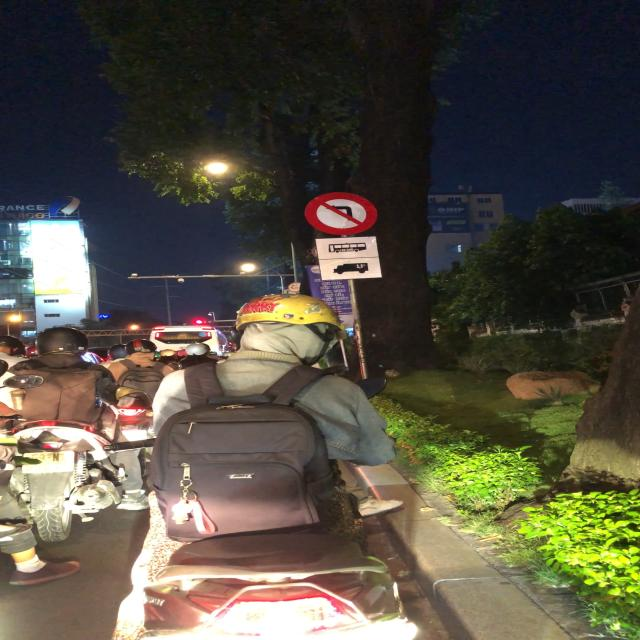Bien bao cam re trai: (303, 190, 381, 238)
